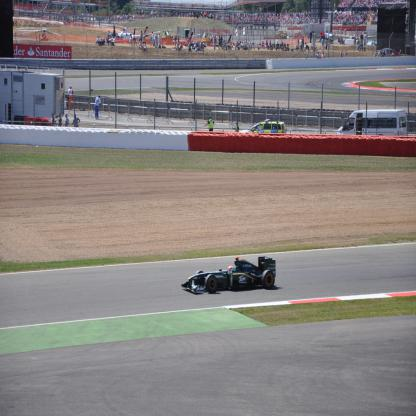Car: (181, 256, 277, 292), (238, 119, 288, 135)
